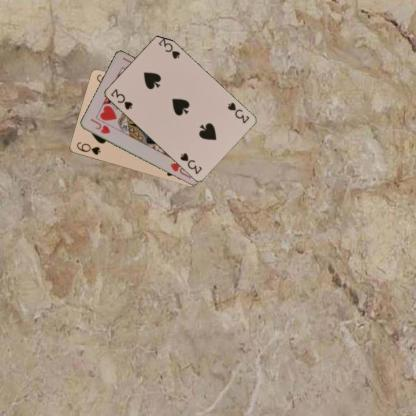3s: (108, 86, 134, 111), (225, 100, 250, 125)
6s: (74, 139, 102, 156)
Jh: (87, 116, 111, 135)
